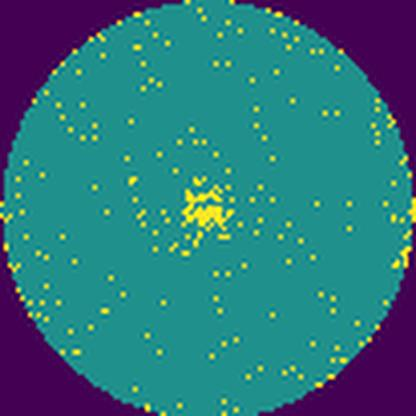Center: (181, 186, 234, 232)
